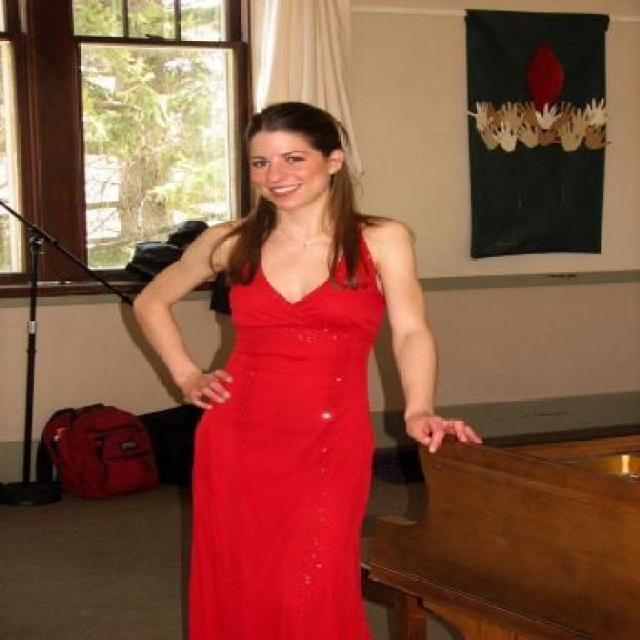backpack: (39, 403, 163, 502)
